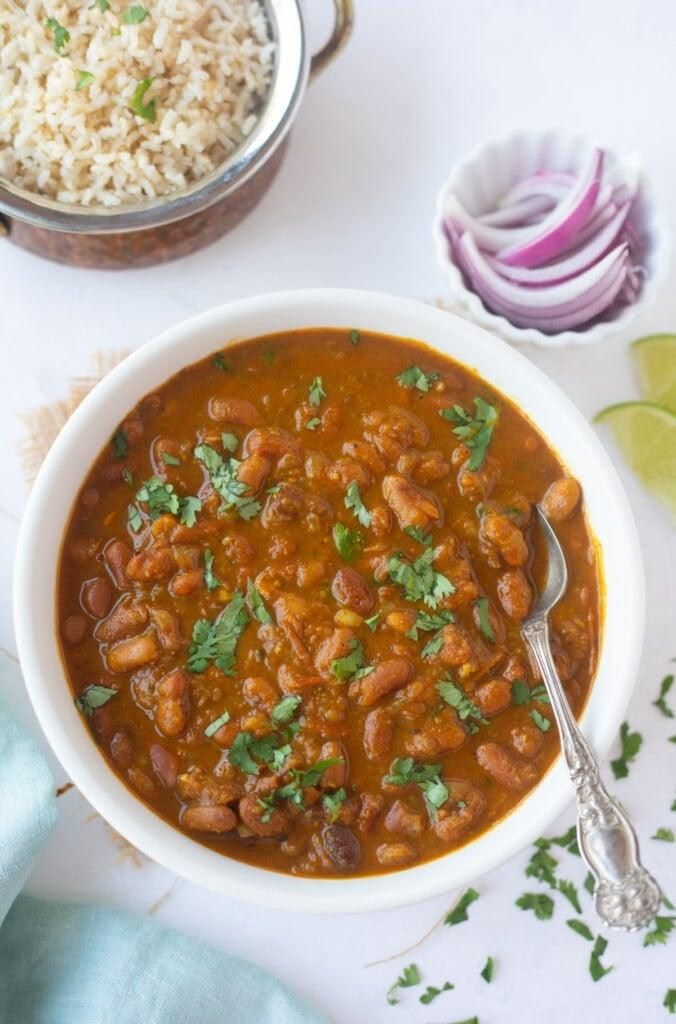rajma: (83, 328, 598, 880)
